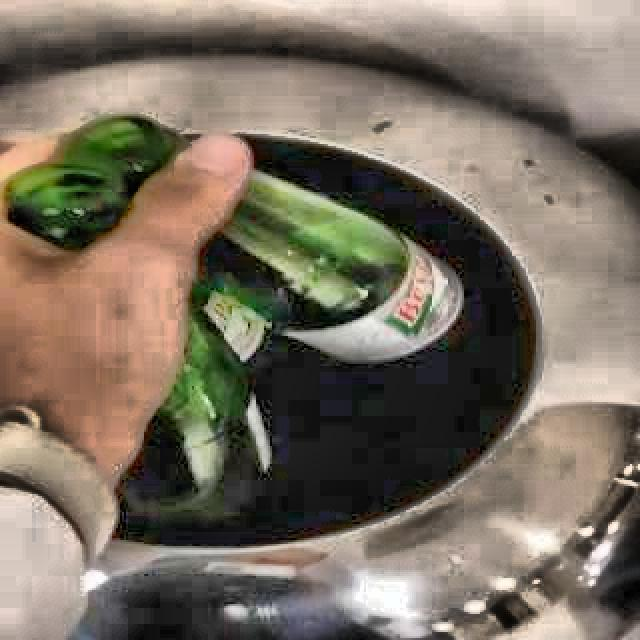glass: (117, 172, 461, 524), (3, 116, 181, 252)
